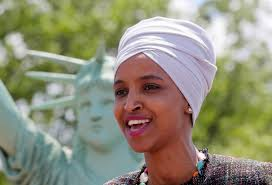middle_eastern_Female: (103, 31, 197, 152)
